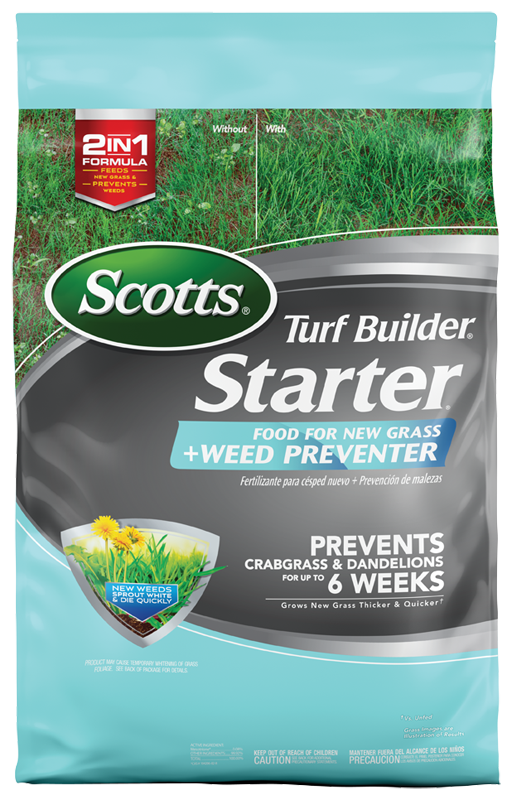crabgrass: (116, 566, 209, 630)
